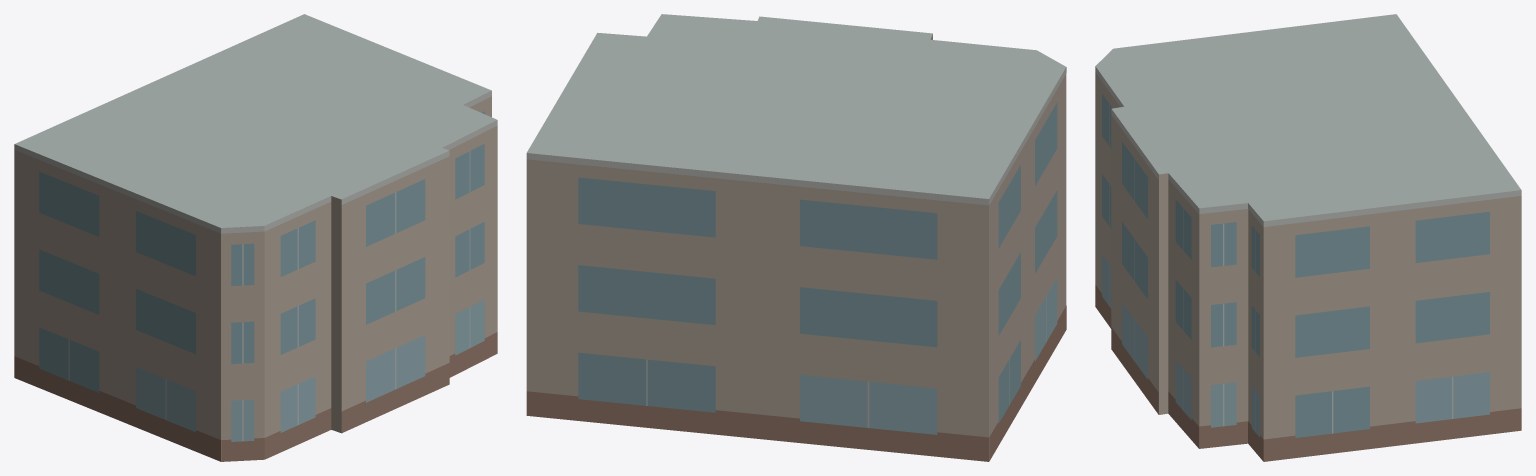
Rendered from survey-upis-32891838.glb.
The picture shows the model from 3 angles, left to right: view 1: azimuth 30°, elevation 25°; view 2: azimuth 150°, elevation 25°; view 3: azimuth 270°, elevation 25°; orthographic projection. The views are drawn at different scales.
Parts seen in each view (by area): view 1: survey-upis-32891838.tmp; view 2: survey-upis-32891838.tmp; view 3: survey-upis-32891838.tmp.
Part boxes in pixels (box(x1,y1,x2,y2)): survey-upis-32891838.tmp: box(14, 14, 497, 461); survey-upis-32891838.tmp: box(526, 14, 1066, 461); survey-upis-32891838.tmp: box(1095, 14, 1521, 461).
Size of the model in its own units: 18.68 by 10.1 by 16.23.
